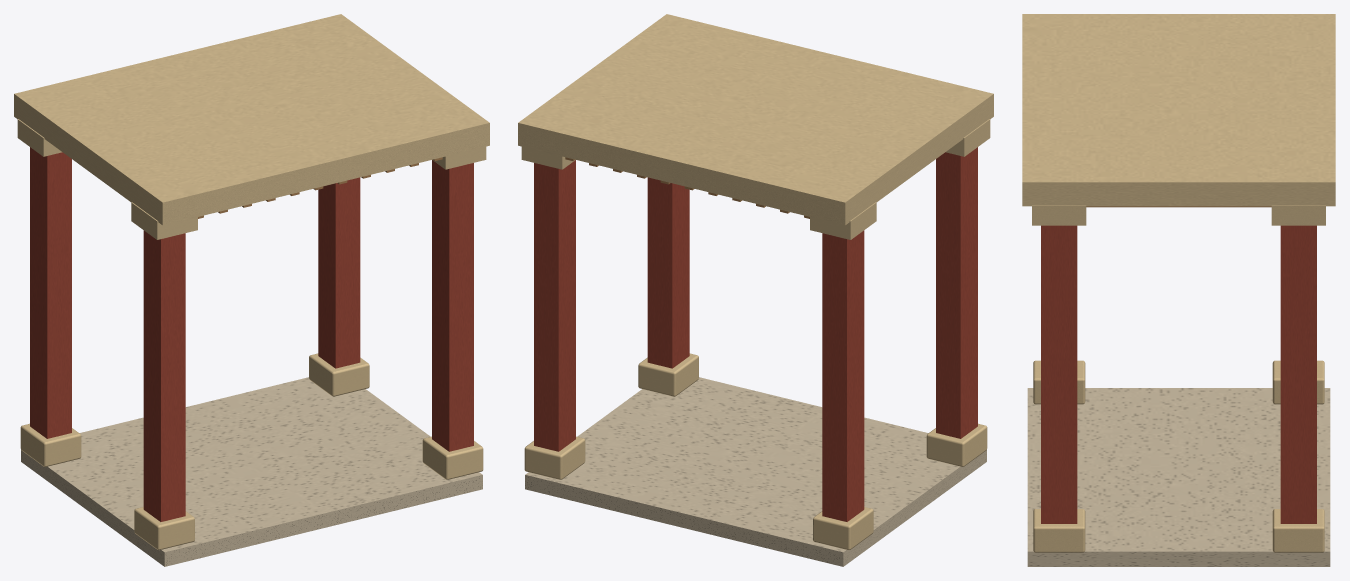
Rendered from campus-colonnade-7c6893bddd05.glb.
The picture shows the model from 3 angles, left to right: view 1: azimuth 30°, elevation 25°; view 2: azimuth 150°, elevation 25°; view 3: azimuth 270°, elevation 25°; orthographic projection. The views are drawn at different scales.
Parts seen in each view (by area): view 1: surface_plaster, surface_brick, surface_terrazzo; view 2: surface_plaster, surface_brick, surface_terrazzo; view 3: surface_plaster, surface_terrazzo, surface_brick.
Boxes of the visible parts, x1,y1,x2,y2 form: surface_plaster: (14, 14, 489, 550); surface_brick: (30, 147, 473, 521); surface_terrazzo: (21, 377, 482, 566); surface_plaster: (518, 14, 993, 550); surface_brick: (534, 147, 977, 521); surface_terrazzo: (525, 377, 986, 566); surface_plaster: (1022, 14, 1335, 552); surface_terrazzo: (1027, 388, 1330, 566); surface_brick: (1041, 225, 1316, 523).
Bounding box in the file's own units: 3.31 × 3.53 × 2.59.
4 materials, 4 textured.
